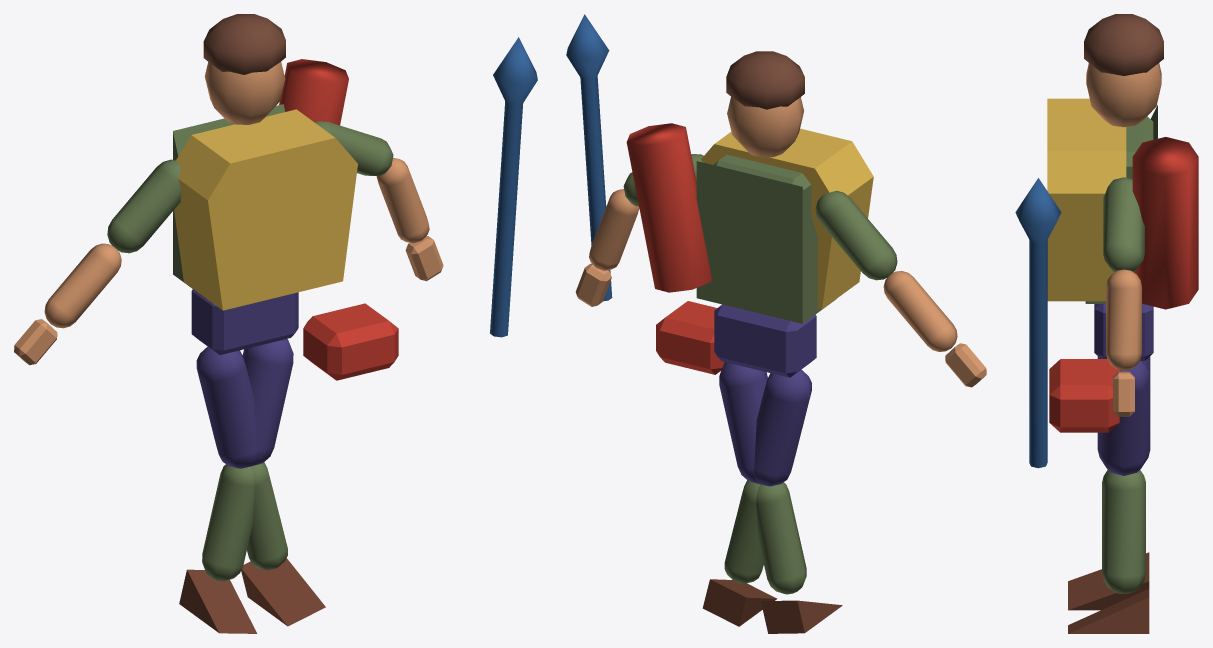
Rendered from adventurer.rustic.glb.
The picture shows the model from 3 angles, left to right: view 1: azimuth 30°, elevation 25°; view 2: azimuth 150°, elevation 25°; view 3: azimuth 270°, elevation 25°; orthographic projection. The views are drawn at different scales.
Visible parts, largest first — view 1: accessory.body, accessory.main-hand, accessory.waist, thigh.left, pelvis, shin.right, hair, thigh.right, upper-arm.left, head, accessory.back, forearm.left (+8 smaller); view 2: tunic, accessory.back, accessory.body, pelvis, thigh.left, accessory.main-hand, shin.right, upper-arm.left, hair, accessory.waist, thigh.right, head (+8 smaller); view 3: accessory.body, accessory.back, accessory.main-hand, shin.left, accessory.waist, hair, head, thigh.right, forearm.right, upper-arm.right, foot.left, foot.right (+3 smaller).
Part boxes in pixels (x1,y1,x2,y2): accessory.body: (174, 109, 357, 310); accessory.main-hand: (490, 37, 537, 337); accessory.waist: (303, 303, 398, 380); thigh.left: (196, 346, 256, 468); pelvis: (191, 289, 298, 354); shin.right: (202, 464, 254, 581); hair: (203, 14, 285, 74); thigh.right: (242, 339, 293, 465); upper-arm.left: (107, 159, 181, 253); head: (204, 61, 285, 124); accessory.back: (279, 59, 348, 125); forearm.left: (44, 243, 121, 328); tunic: (696, 161, 836, 323); accessory.back: (626, 123, 711, 292); accessory.body: (701, 128, 873, 309); pelvis: (714, 304, 816, 377); thigh.left: (754, 369, 811, 486); accessory.main-hand: (566, 14, 612, 301); shin.right: (756, 482, 806, 594); upper-arm.left: (815, 190, 897, 280); hair: (726, 51, 804, 109); accessory.waist: (656, 301, 724, 374); thigh.right: (719, 362, 767, 483); head: (727, 97, 803, 157); accessory.body: (1047, 98, 1126, 301); accessory.back: (1132, 137, 1198, 309); accessory.main-hand: (1015, 178, 1061, 468); shin.left: (1102, 471, 1145, 593); accessory.waist: (1049, 359, 1119, 432); hair: (1084, 14, 1163, 75); head: (1086, 63, 1161, 127); thigh.right: (1097, 361, 1150, 475); forearm.right: (1106, 269, 1141, 370); upper-arm.right: (1103, 177, 1144, 272); foot.left: (1068, 589, 1149, 633); foot.right: (1068, 552, 1149, 610).
Bounding box in the file's own units: 2.54 × 3.01 × 0.8353.
